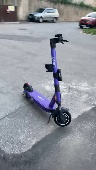beam: (21, 31, 73, 128)
